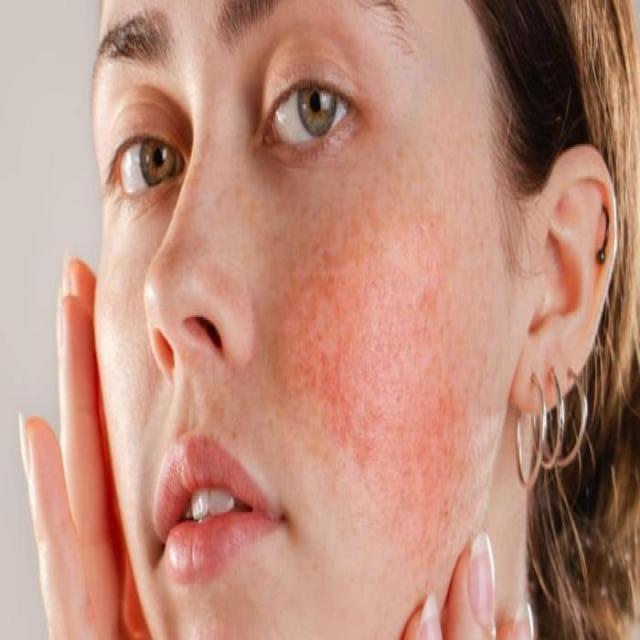Rosacea: (274, 184, 491, 566)
